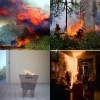fire: (2, 1, 50, 47), (61, 18, 99, 38), (68, 55, 78, 87), (16, 64, 37, 79)
